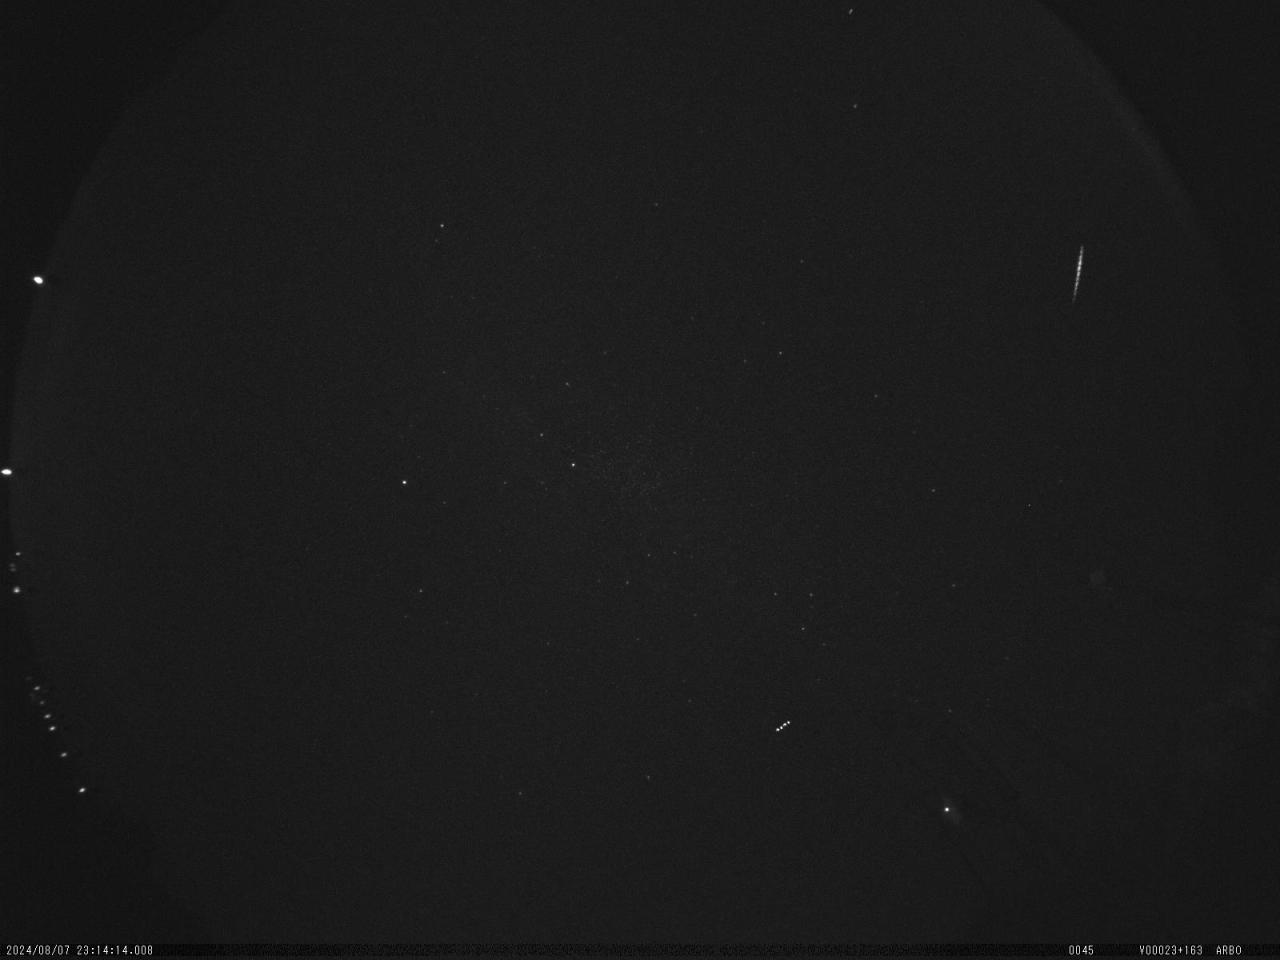Meteor: (1070, 240, 1085, 302)
